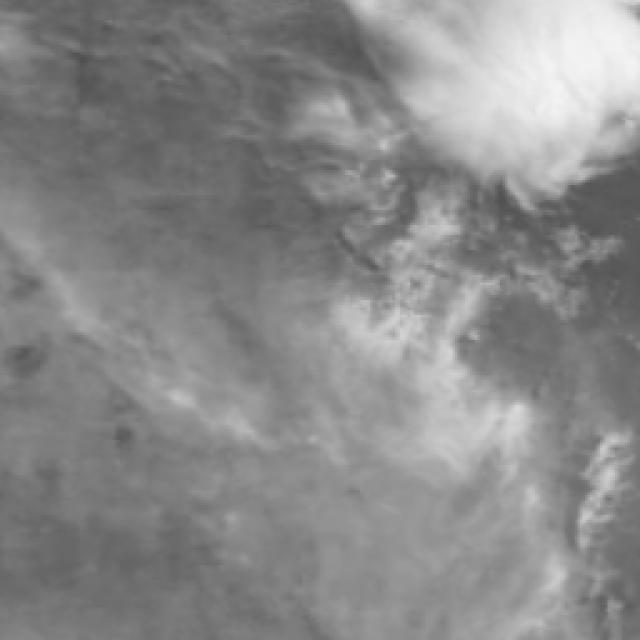CB: (470, 0, 608, 125)
